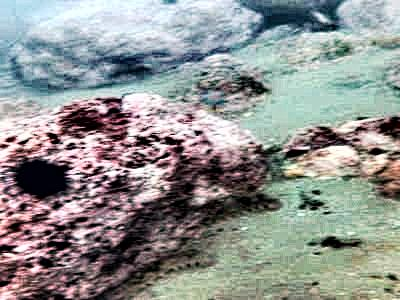urchin: (8, 156, 75, 198)
